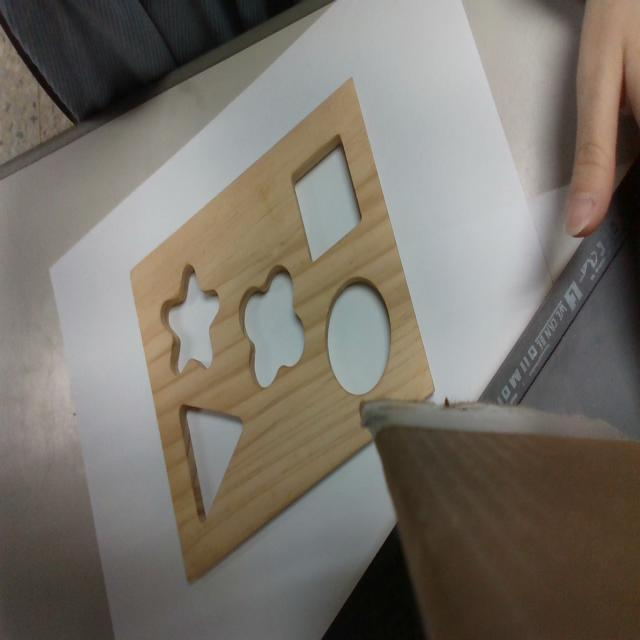circle: (326, 278, 391, 397)
flower: (236, 265, 304, 390)
square: (291, 134, 363, 264)
star: (160, 266, 220, 374)
triangle: (177, 403, 244, 523)
